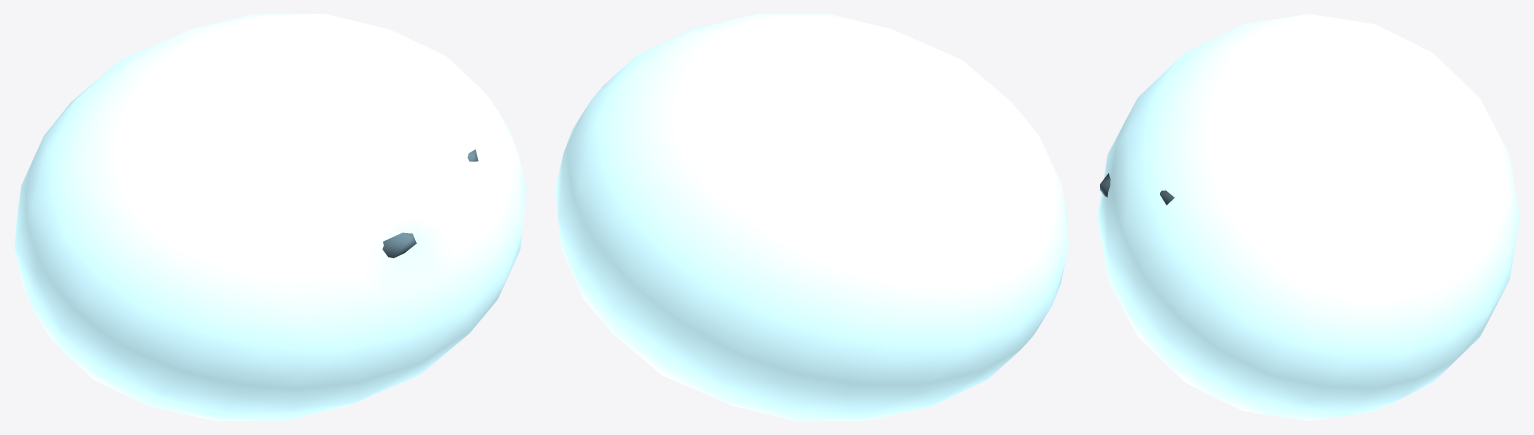
The model's file is col_pebble.glb.
3 renders of one model, left to right at view 1: azimuth 30°, elevation 25°; view 2: azimuth 150°, elevation 25°; view 3: azimuth 270°, elevation 25°, orthographic. The views are drawn at different scales.
Parts seen in each view (by area): view 1: col_pebble; view 2: col_pebble; view 3: col_pebble.
Boxes of the visible parts, x1,y1,x2,y2 form: col_pebble: (14, 14, 526, 420); col_pebble: (555, 14, 1068, 420); col_pebble: (1097, 14, 1519, 420).
Bounding box in the file's own units: 0.4059 × 0.3 × 0.3322.
